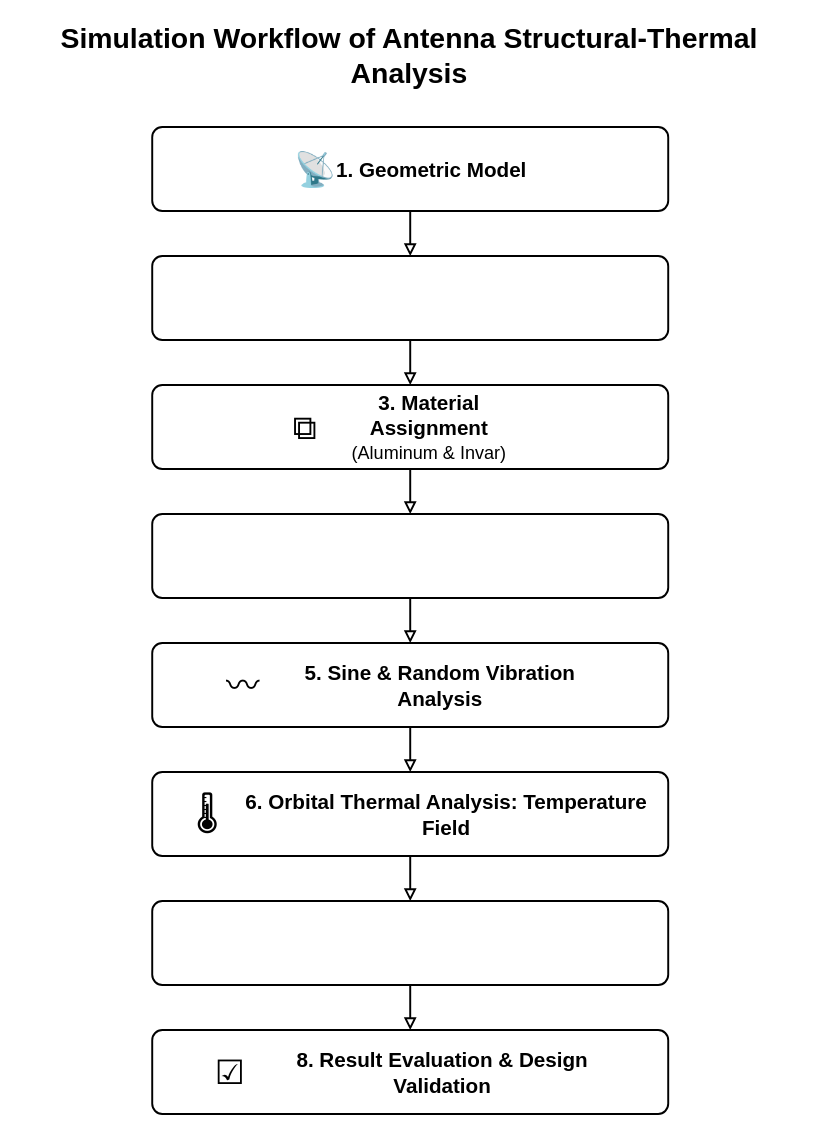
Some shapes in this 818 by 1138 pixel diagram are drawn without their labels. The centre of each missing label's shape, as x and y in pixels:
"∿ 4. Modal Analysis (f1 = 120 Hz)" goes at [410,555].
"▦ 2. FE Mesh Generation (150k elements, shell & solid mixed)" goes at [410,297].
"▱ 7. Thermal Deformation Analysis (RMS < 0.15 mm)" goes at [410,942].
